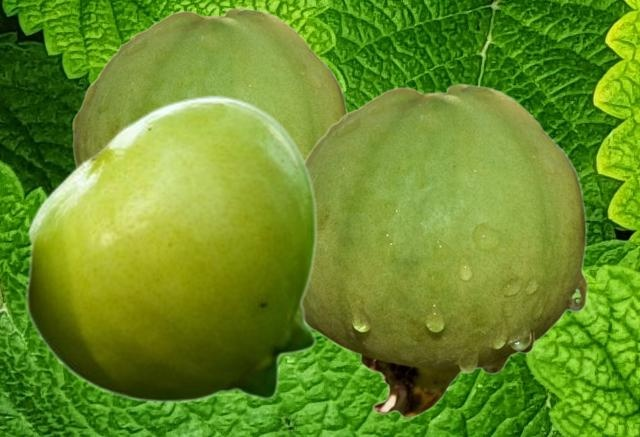guava: (304, 83, 587, 417), (24, 94, 317, 402), (72, 7, 348, 167)
